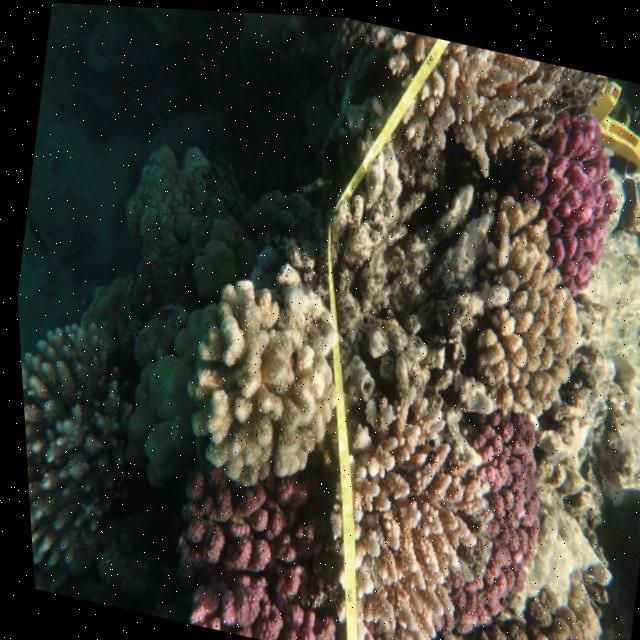Bleached Coral: (177, 259, 336, 466)
Healthy Coral: (155, 477, 348, 634), (436, 397, 557, 637), (513, 98, 631, 280)
